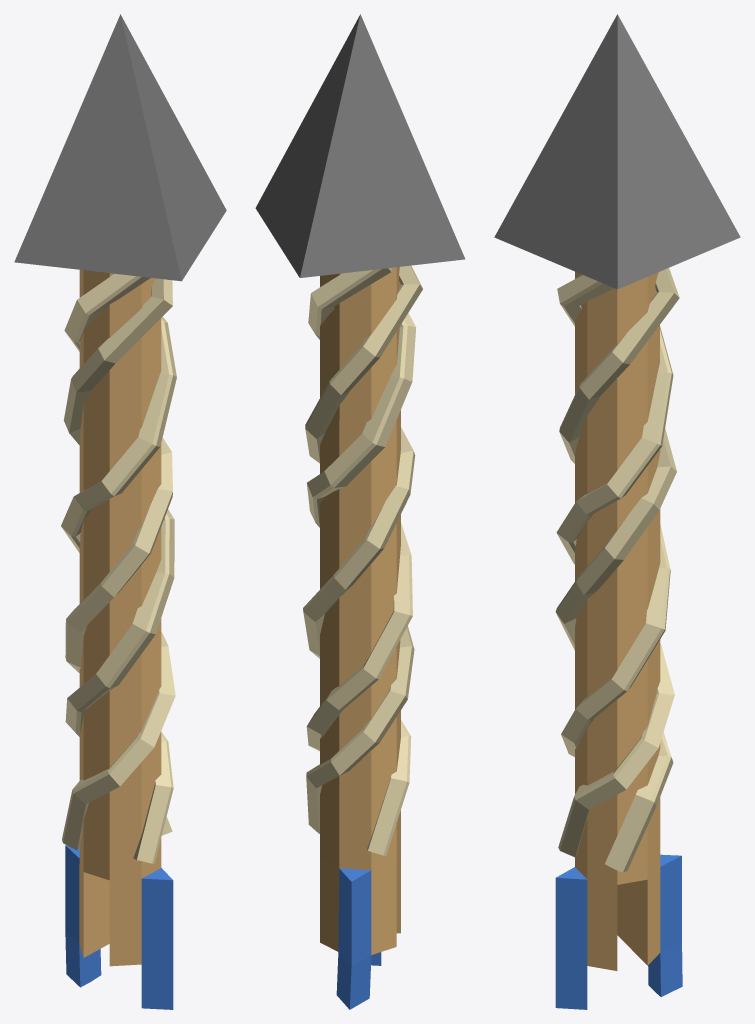
The model's file is holzpfeil.fbx.
3 views of the same model, side by side, from view 1: azimuth 30°, elevation 25°; view 2: azimuth 150°, elevation 25°; view 3: azimuth 270°, elevation 25° (orthographic).
Parts seen in each view (by area): view 1: Cube.001; view 2: Cube.001; view 3: Cube.001.
Boxes of the visible parts, bbox=[...] form: Cube.001: bbox=[14, 14, 226, 1009]; Cube.001: bbox=[255, 14, 464, 1009]; Cube.001: bbox=[494, 14, 740, 1009].
Bounding box in the file's own units: 229 × 1009 × 229.
